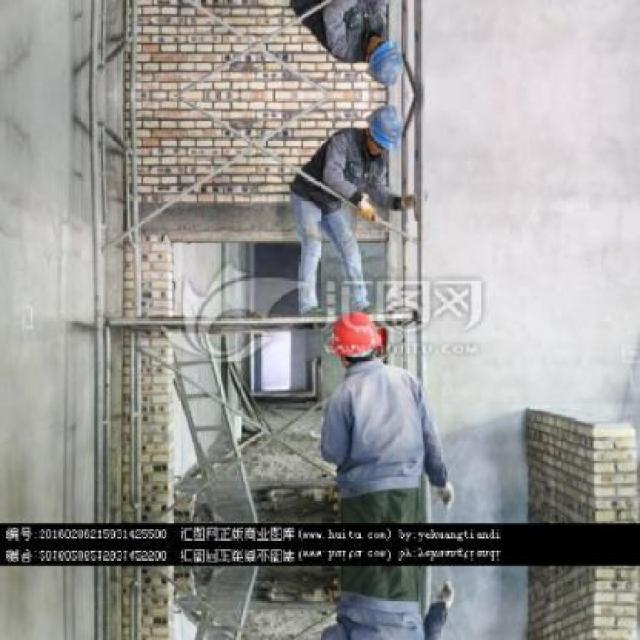helmet: (328, 308, 382, 368), (363, 35, 403, 88), (363, 100, 403, 152)
